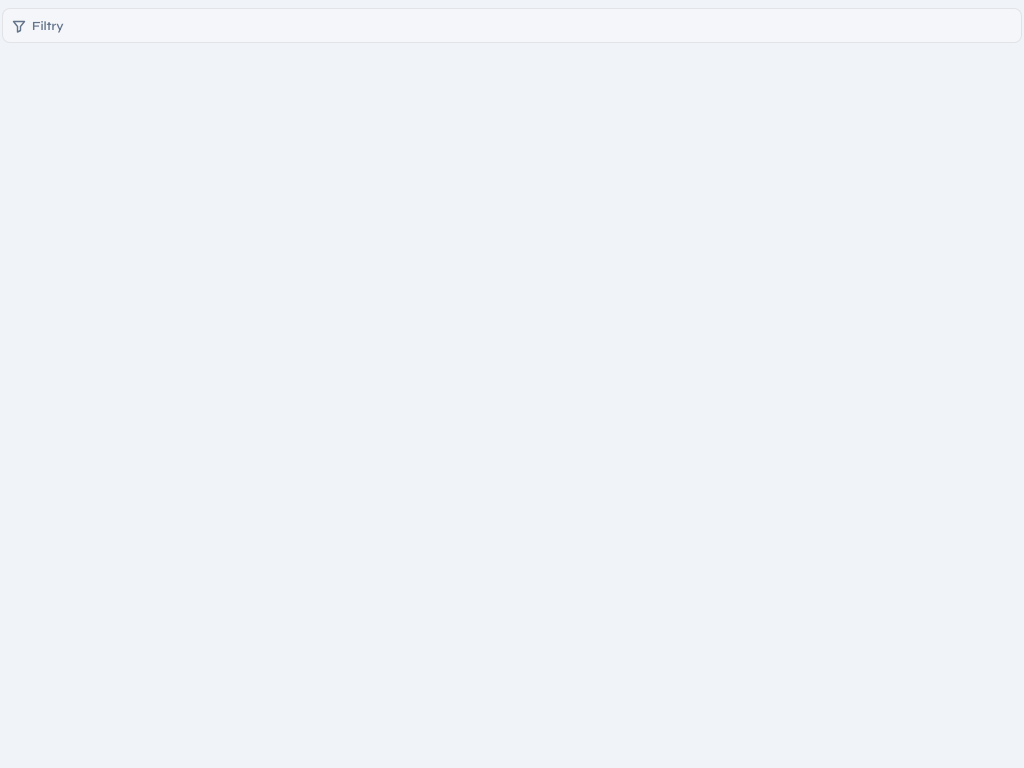
Test: FiltersPanel — panel typu drawer › każdy wynik pokazuje tytuł, autora, typ, poziom szczegółowości i ścieżkę kategorii
Click the button "Filtry".
click(48, 26)  # box [2, 8, 1022, 43]
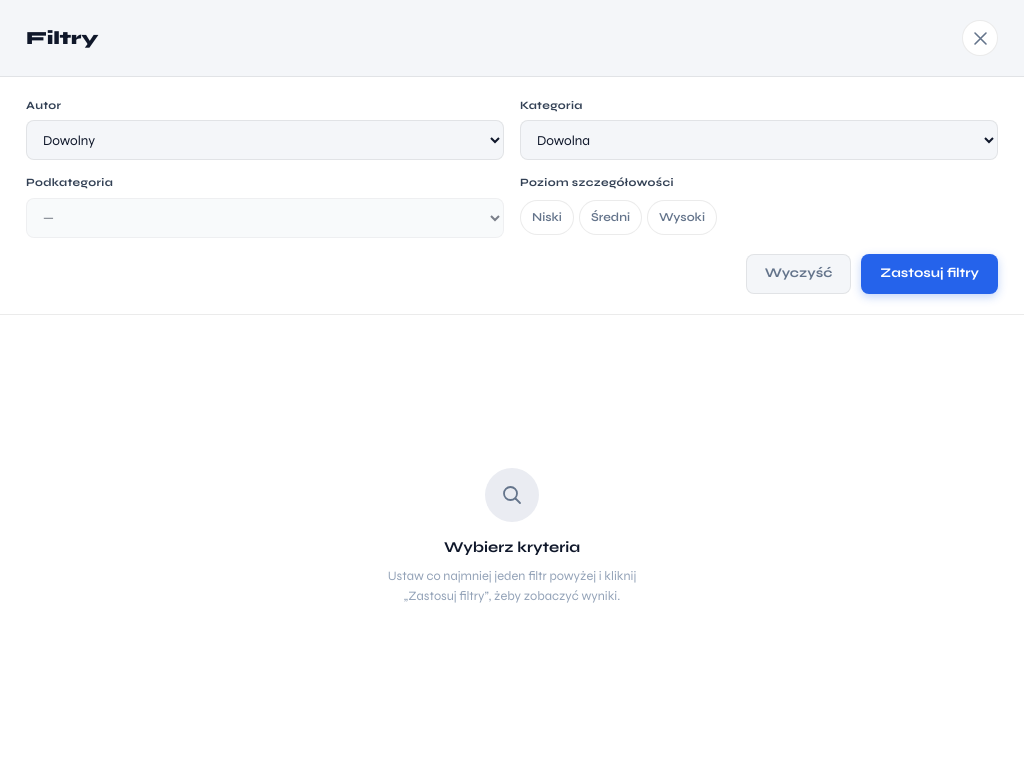
Expected: the dialog "Filtry" is shown
Select "Ala" in the dropdown with class "sop-select" below "Autor" at (265, 140), box [26, 120, 504, 160]
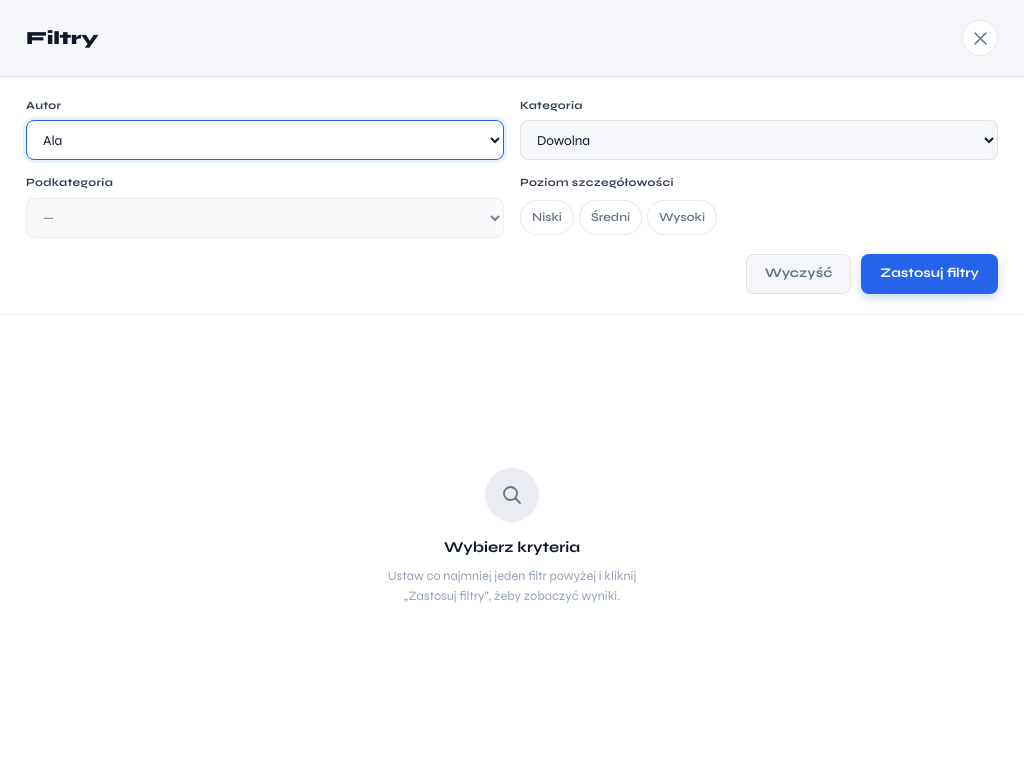
Click the button "Zastosuj filtry".
click(930, 274)  # box [861, 254, 998, 294]
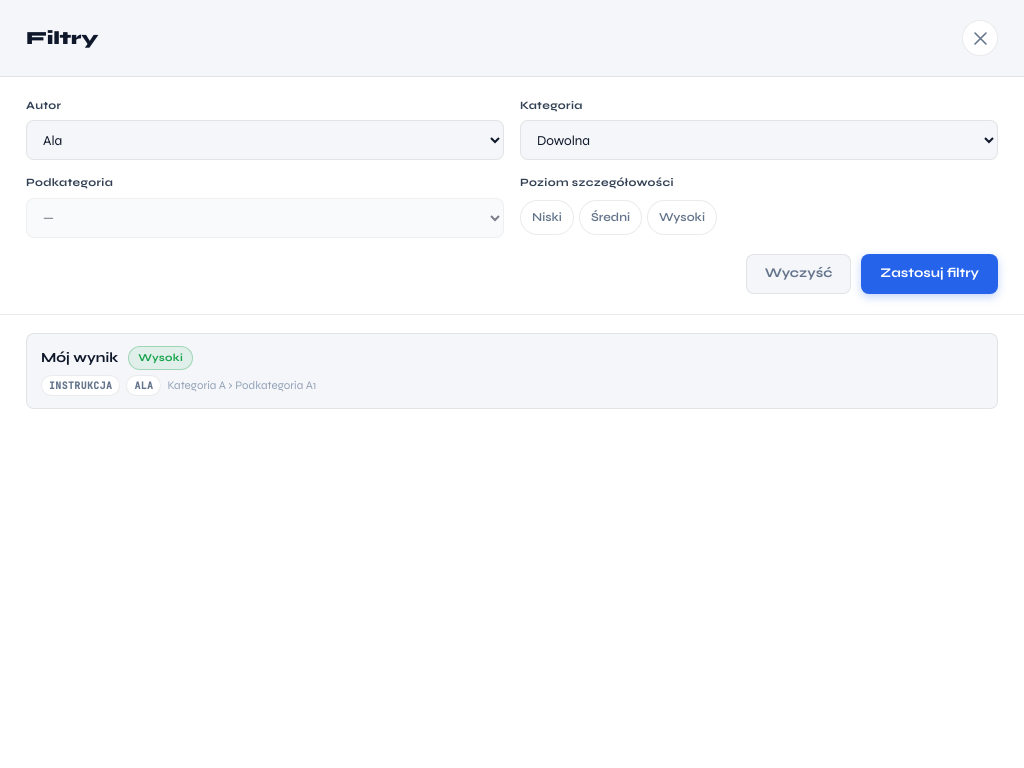
Expected: the text "Mój wynik" is shown, [41, 347, 118, 369]
Expected: the element with class "fp-result-meta" shows "Ala", [134, 379, 153, 392]
Expected: the element with class "fp-result-meta" shows "Instrukcja", [49, 379, 112, 392]
